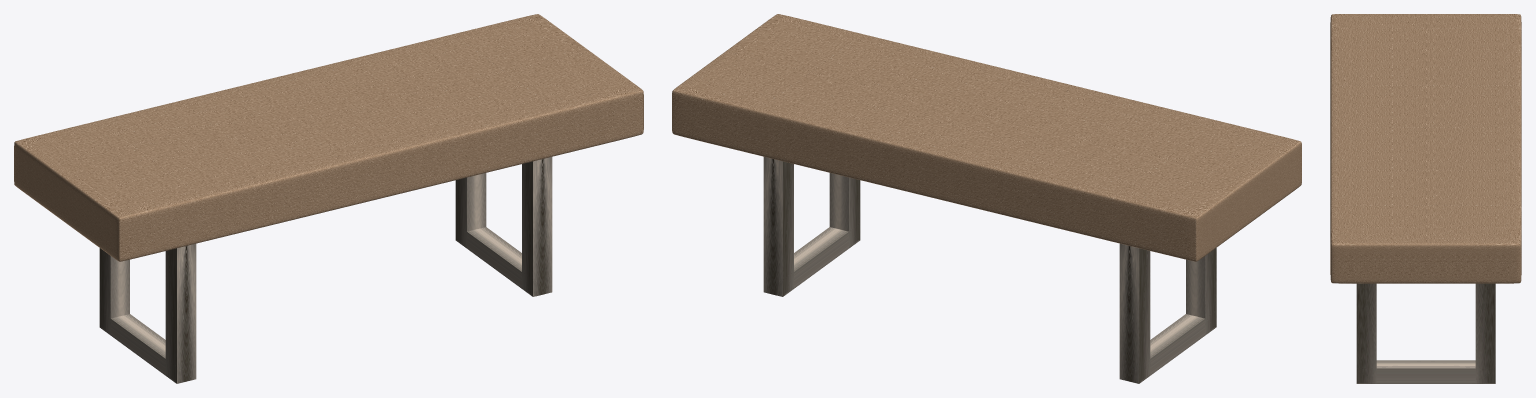
The model's file is Squaresitting.fbx.
3 renders of one model, left to right at view 1: azimuth 30°, elevation 25°; view 2: azimuth 150°, elevation 25°; view 3: azimuth 270°, elevation 25°, orthographic. The views are drawn at different scales.
Visible parts, largest first — view 1: squaresitting, leg, leg2; view 2: squaresitting, leg, leg2; view 3: squaresitting, leg2.
Boxes of the visible parts, x1,y1,x2,y2 form: squaresitting: (14, 14, 643, 261); leg: (99, 243, 196, 383); leg2: (455, 157, 552, 296); squaresitting: (672, 14, 1301, 261); leg: (1119, 243, 1216, 383); leg2: (763, 157, 860, 296); squaresitting: (1330, 14, 1521, 283); leg2: (1356, 283, 1495, 383).
Size of the model in its own units: 4.02 by 1.41 by 1.41.
